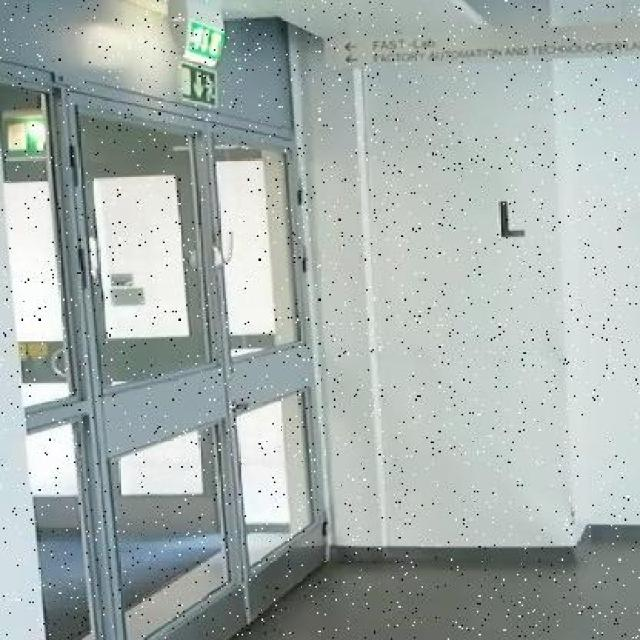person: (156, 60, 252, 112), (0, 102, 64, 166), (164, 9, 242, 61)
